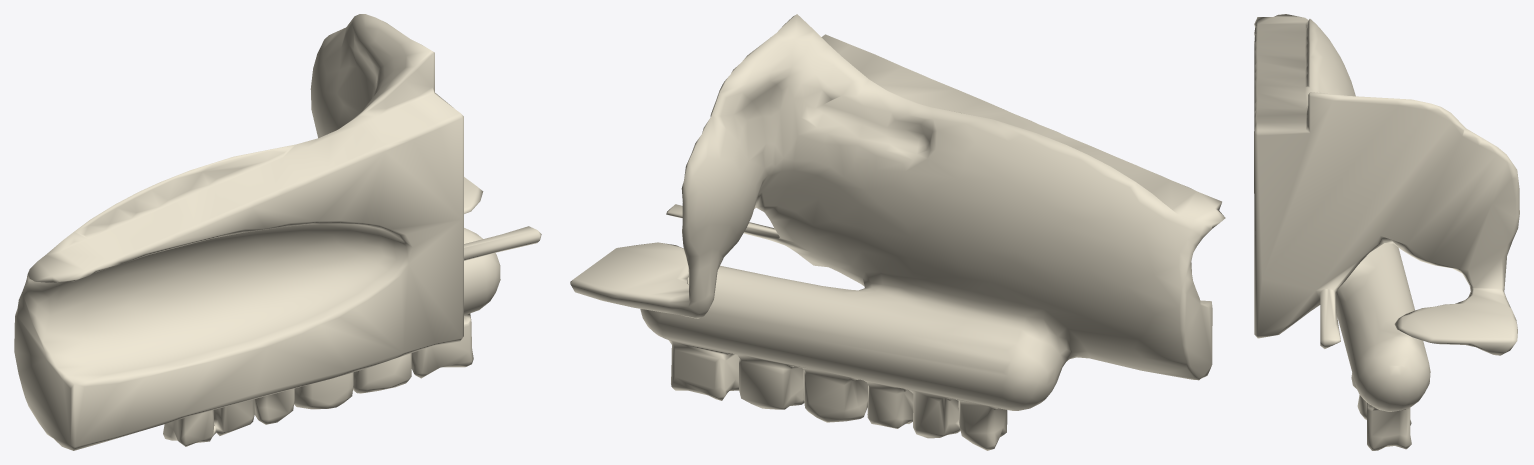
File: maxilla_r.glb
3 renders of one model, left to right at view 1: azimuth 30°, elevation 25°; view 2: azimuth 150°, elevation 25°; view 3: azimuth 270°, elevation 25°, orthographic. The views are drawn at different scales.
Visible parts, largest first — view 1: geometry_0; view 2: geometry_0; view 3: geometry_0.
Boxes of the visible parts, x1,y1,x2,y2 form: geometry_0: (14,14,541,450); geometry_0: (570,14,1225,450); geometry_0: (1254,14,1519,450).
Size of the model in its own units: 0.4685 by 0.3025 by 0.2215.
